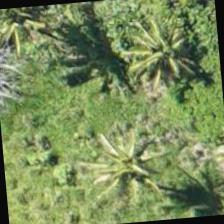Kelapa_Sawit: (74, 115, 172, 213), (111, 2, 209, 100), (0, 4, 66, 69)
